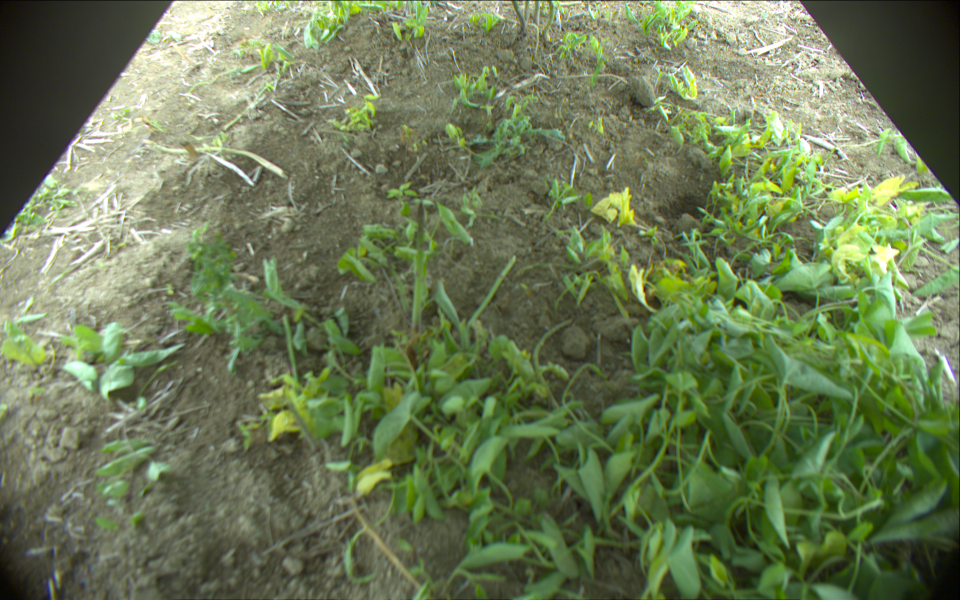aspa: (154, 139, 283, 178), (413, 203, 427, 335), (508, 1, 524, 30), (543, 1, 554, 34), (534, 1, 541, 24), (524, 1, 530, 22)
